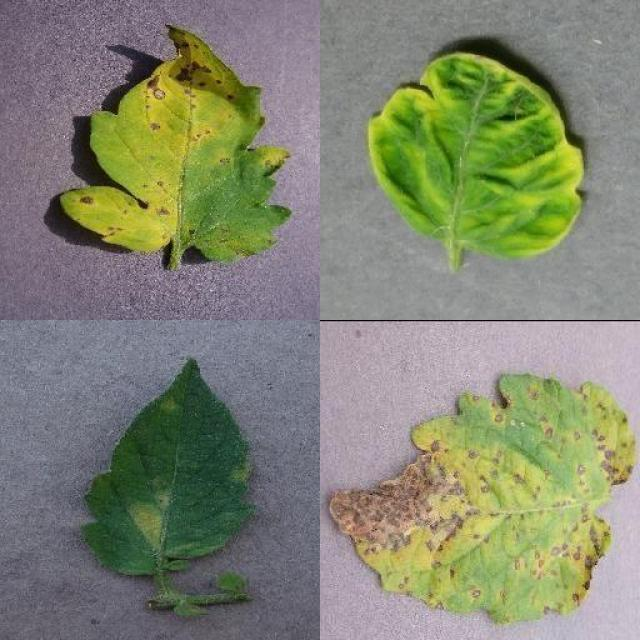Septoria: (329, 372, 639, 622), (64, 23, 292, 265)
